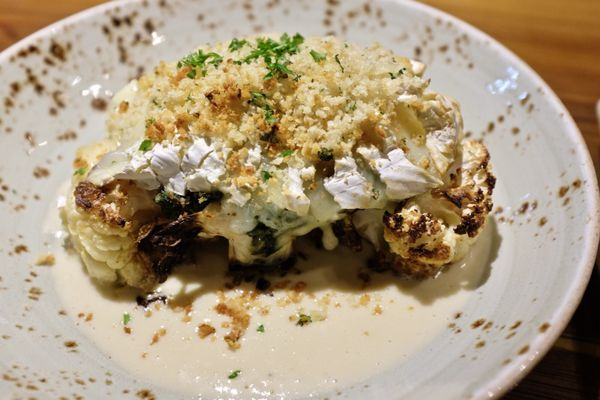curry: (13, 0, 598, 392)
